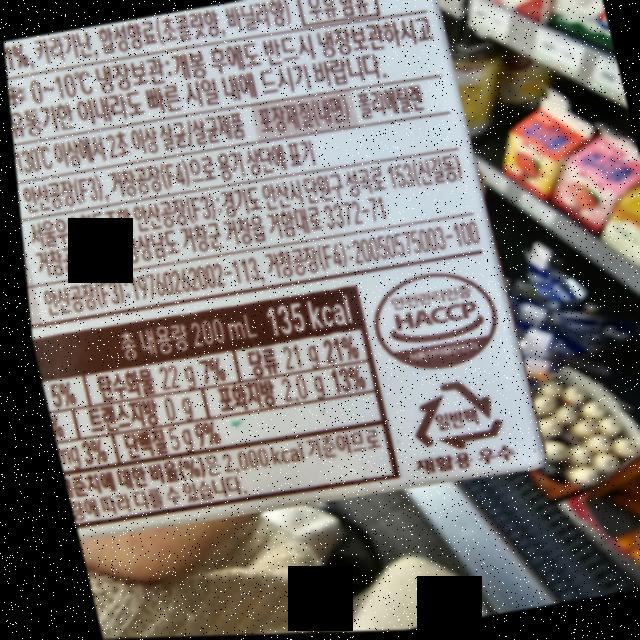NormalPack: (390, 375, 502, 462)
